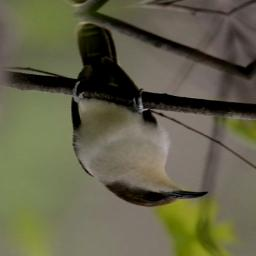Cuckoo: (33, 10, 212, 217)
